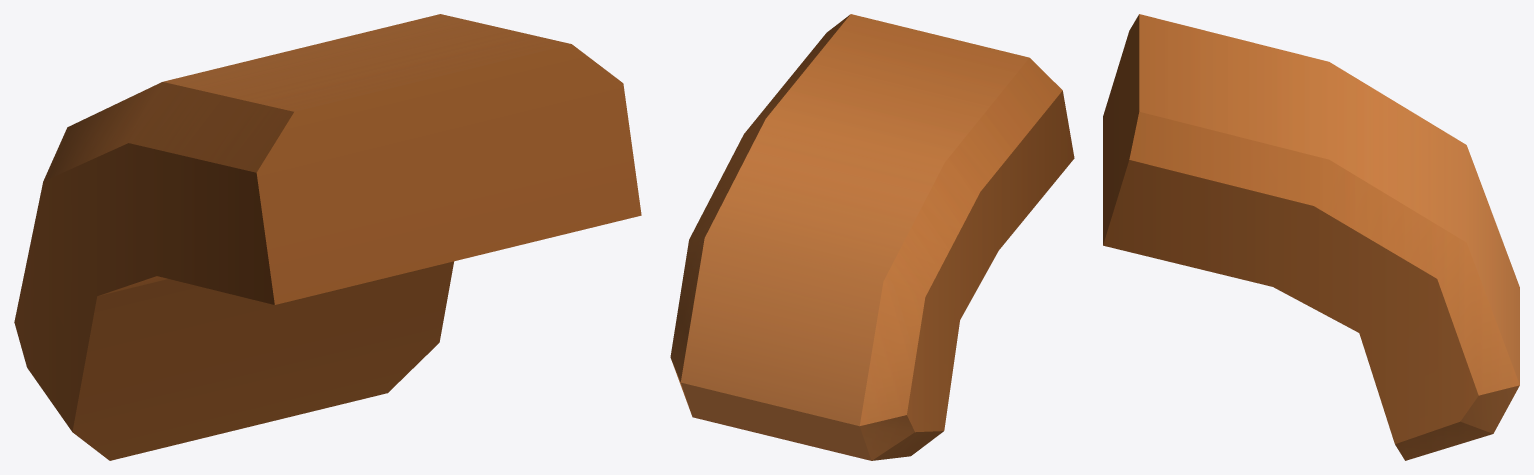
The model's file is Edge Wall 01.FBX.
3 renders of one model, left to right at view 1: azimuth 30°, elevation 25°; view 2: azimuth 150°, elevation 25°; view 3: azimuth 270°, elevation 25°, orthographic. The views are drawn at different scales.
Visible parts, largest first — view 1: Edge Wall 01; view 2: Edge Wall 01; view 3: Edge Wall 01.
Part boxes in pixels (x1,y1,x2,y2): Edge Wall 01: (14,14,641,460); Edge Wall 01: (670,14,1074,460); Edge Wall 01: (1103,14,1519,460).
Size of the model in its own units: 183 by 230 by 249.
Materials: 1 (1 with a texture image).
